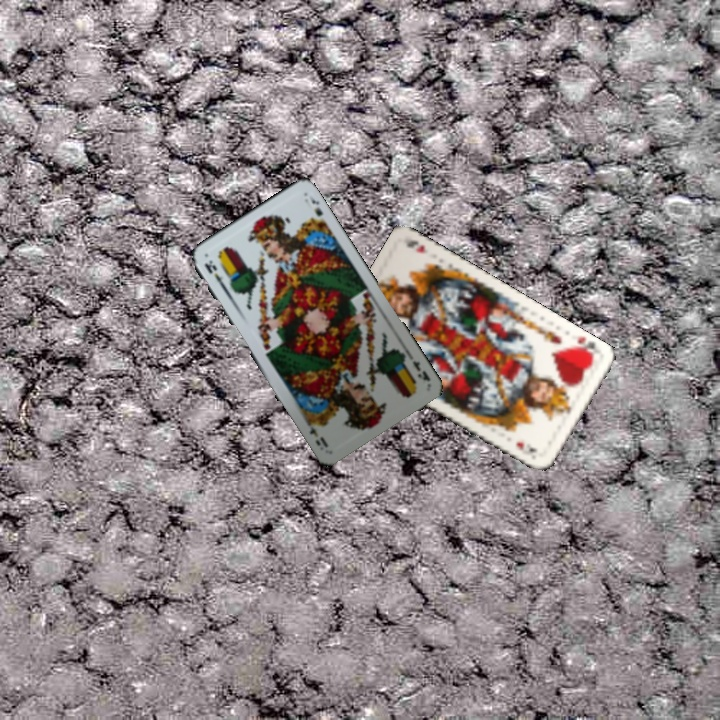EK: (200, 256, 229, 293), (408, 356, 433, 384)
HK: (567, 333, 599, 361)
